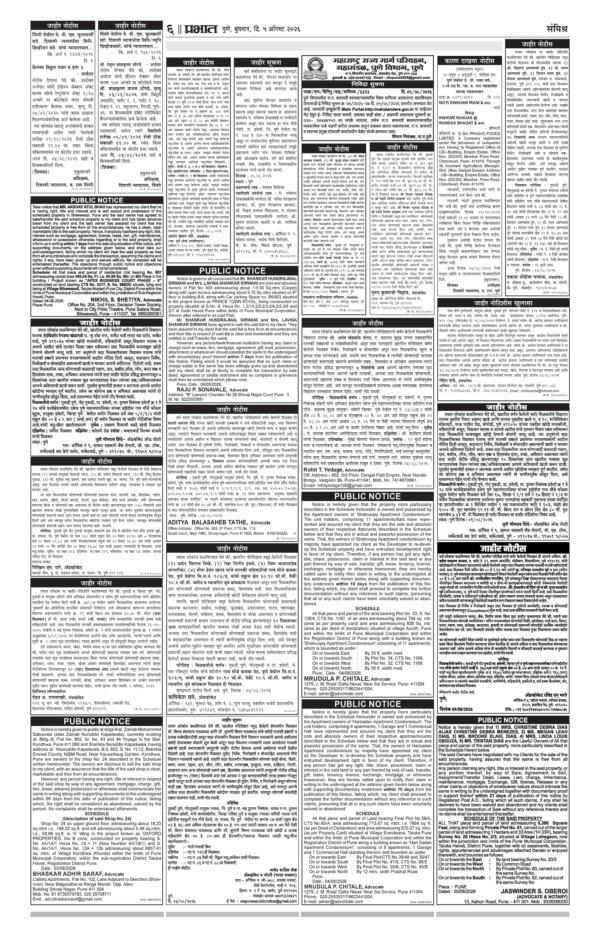Article: (17, 193, 161, 900), (162, 265, 298, 912), (435, 298, 571, 931), (296, 317, 435, 917), (164, 56, 299, 263), (21, 10, 163, 195), (299, 139, 434, 322), (502, 34, 569, 298), (435, 48, 503, 298), (296, 49, 431, 139)
